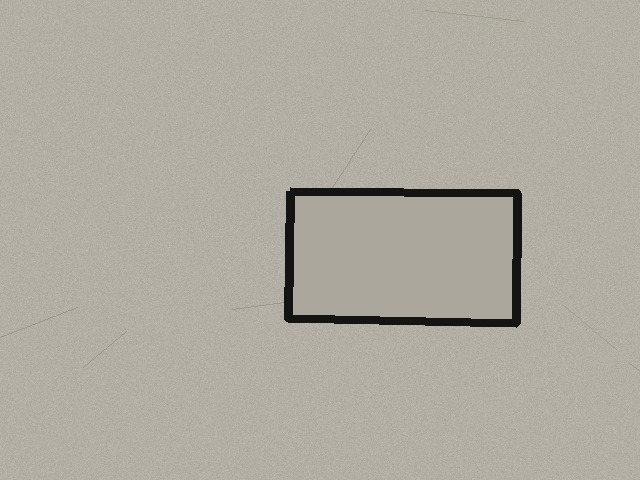parking_area: (288, 191, 517, 323)
